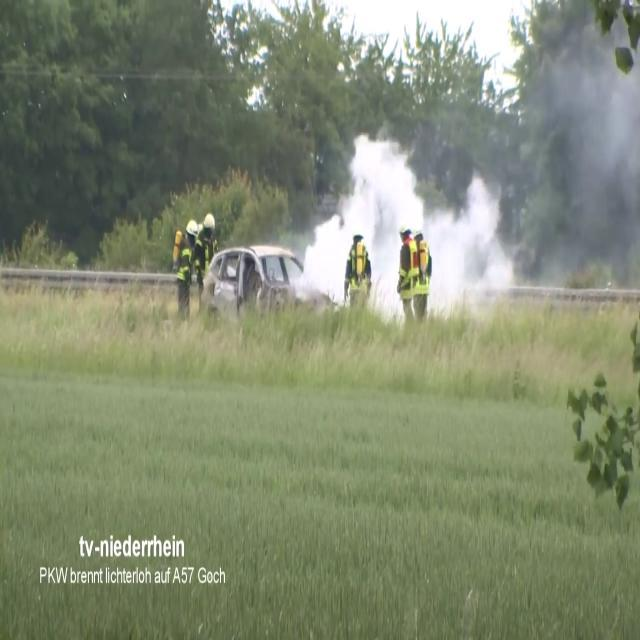Smoke: (494, 2, 640, 307), (296, 121, 514, 322)
